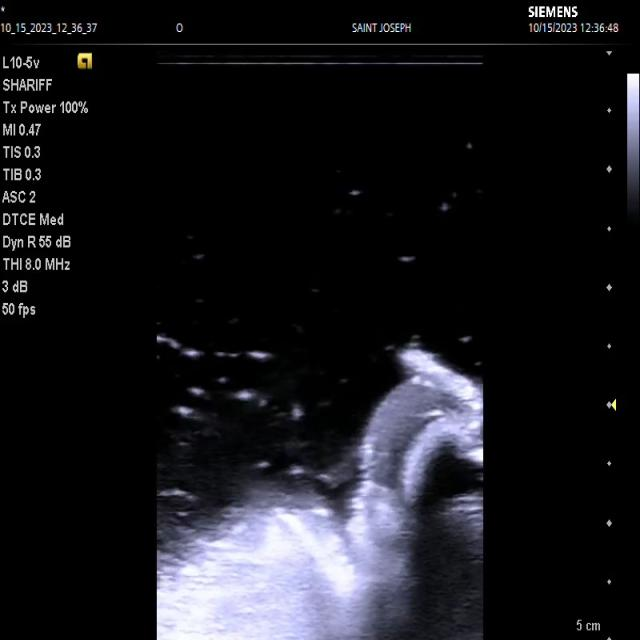tissue: (155, 347, 485, 640)
